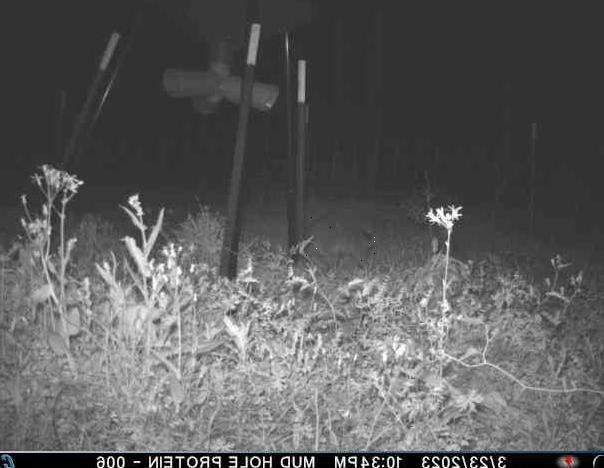Raccoon: (300, 213, 378, 282)
